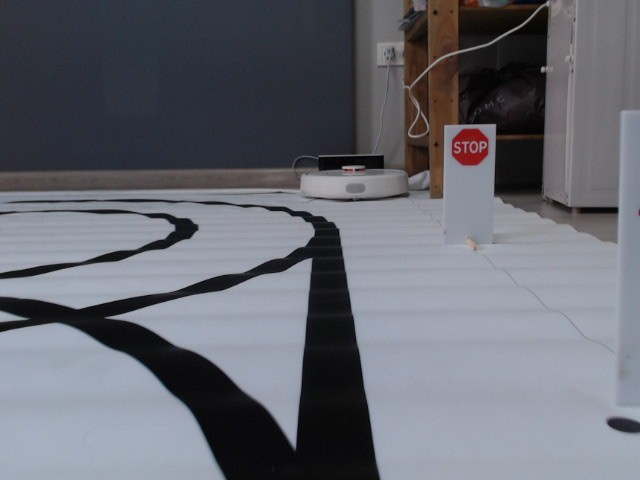Stop: (451, 127, 489, 169)
